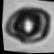correct: (2, 2, 54, 46)
